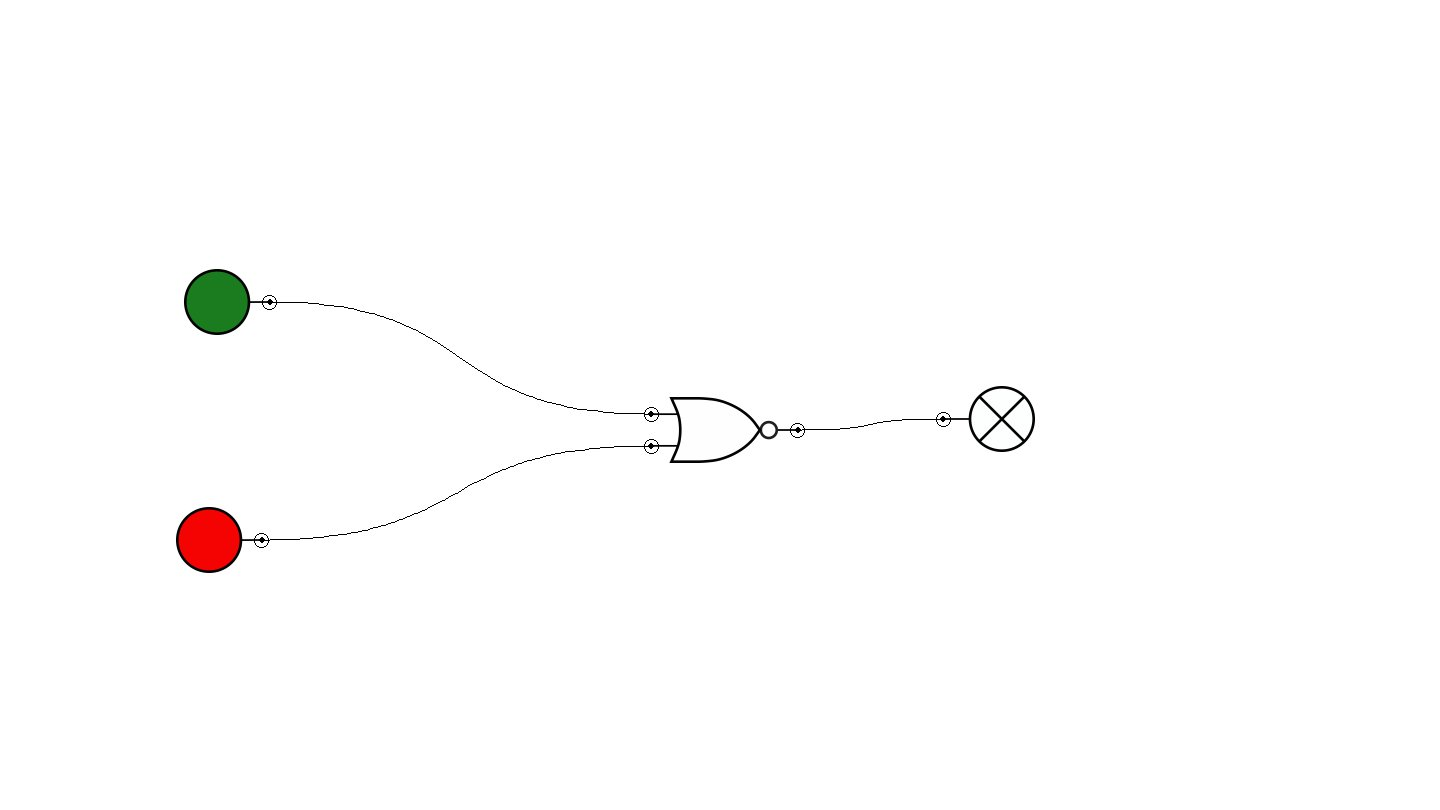bulb: (936, 386, 1035, 452)
nor: (644, 397, 805, 463)
switch_False: (176, 507, 269, 573)
switch_True: (184, 269, 277, 335)
